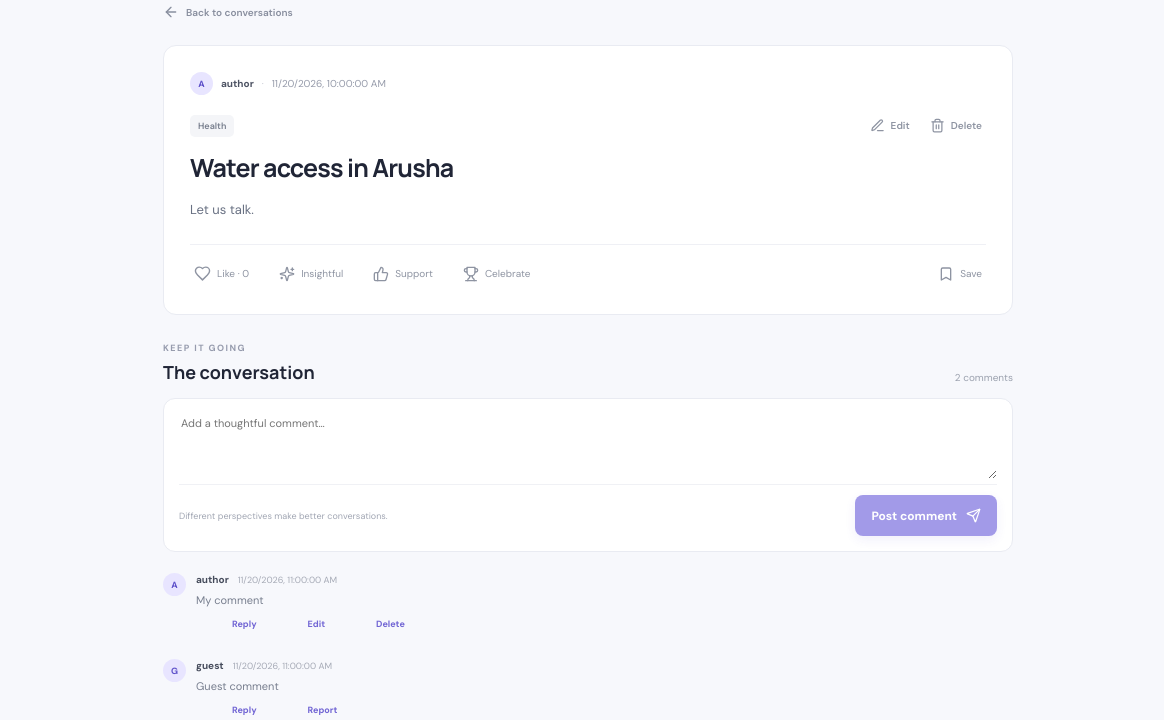
DiscussionPage owner controls › deletes the discussion after confirmation and returns home
This screenshot has width=1164, height=720.
Expected: the heading "Water access in Arusha" is shown, [190,150,453,185]
Click the button "Delete" in the row of "Health" at (956, 126), box [926,113,986,138]
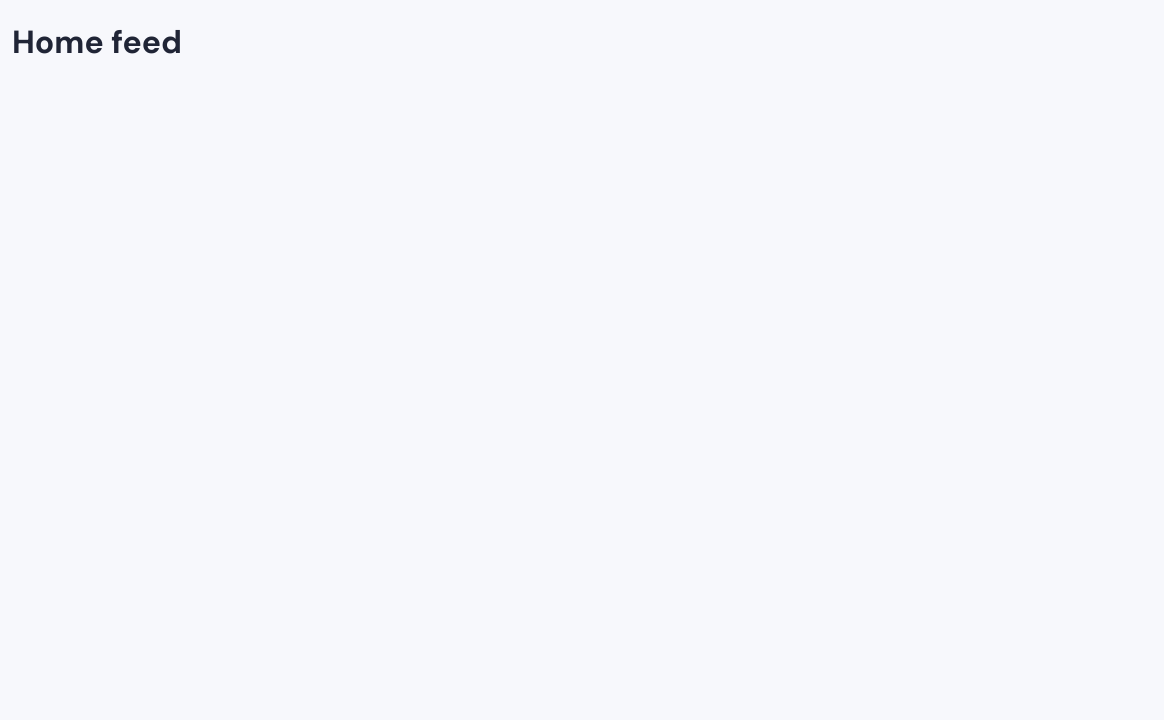
Now the heading "Home feed" is shown, box [12,21,182,63]
